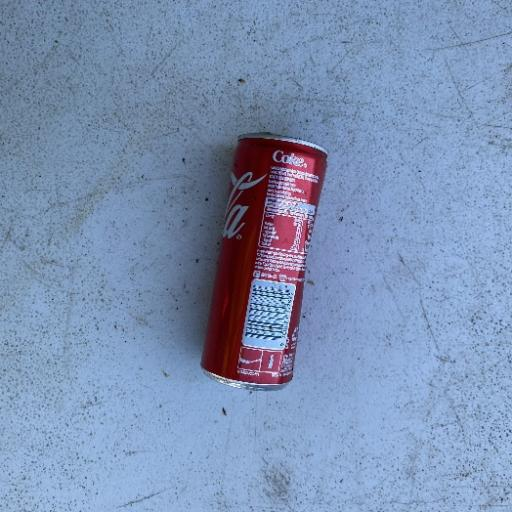Metal: (198, 131, 330, 391)
